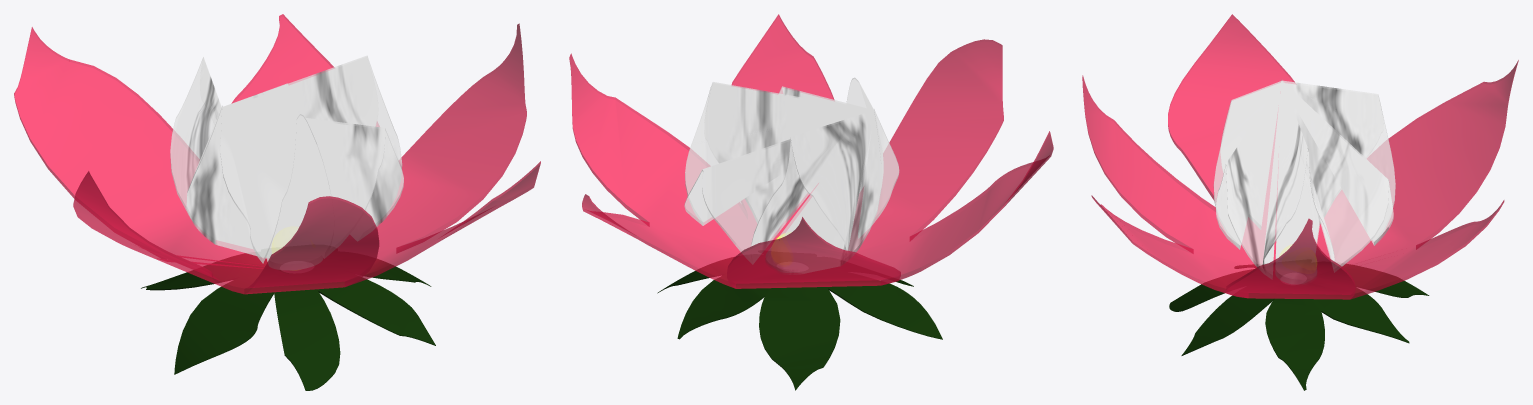
Rendered from 塑料花1.FBX.
3 views of the same model, side by side, from view 1: azimuth 30°, elevation 25°; view 2: azimuth 150°, elevation 25°; view 3: azimuth 270°, elevation 25° (orthographic). The views are drawn at different scales.
Visible parts, largest first — view 1: Shape013, Shape010, Shape012; view 2: Shape013, Shape010, Shape012; view 3: Shape013, Shape010, Shape012.
Boxes of the visible parts, <box> form: Shape013: <box>14,14,540,294</box>; Shape010: <box>170,55,403,269</box>; Shape012: <box>141,253,435,390</box>; Shape013: <box>569,14,1053,288</box>; Shape010: <box>684,77,899,272</box>; Shape012: <box>657,257,942,390</box>; Shape013: <box>1082,14,1518,299</box>; Shape010: <box>1213,79,1395,283</box>; Shape012: <box>1169,264,1429,390</box>.
Bounding box in the file's own units: 29.72 × 14.7 × 26.82.
